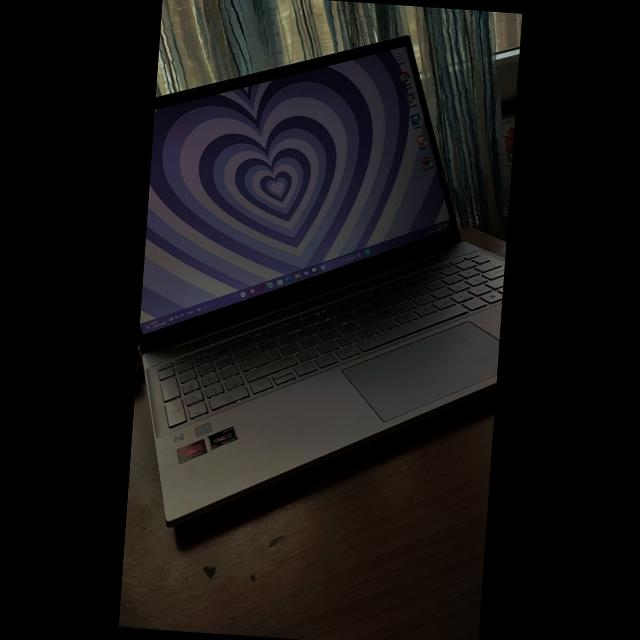laptop: (138, 35, 503, 525)
